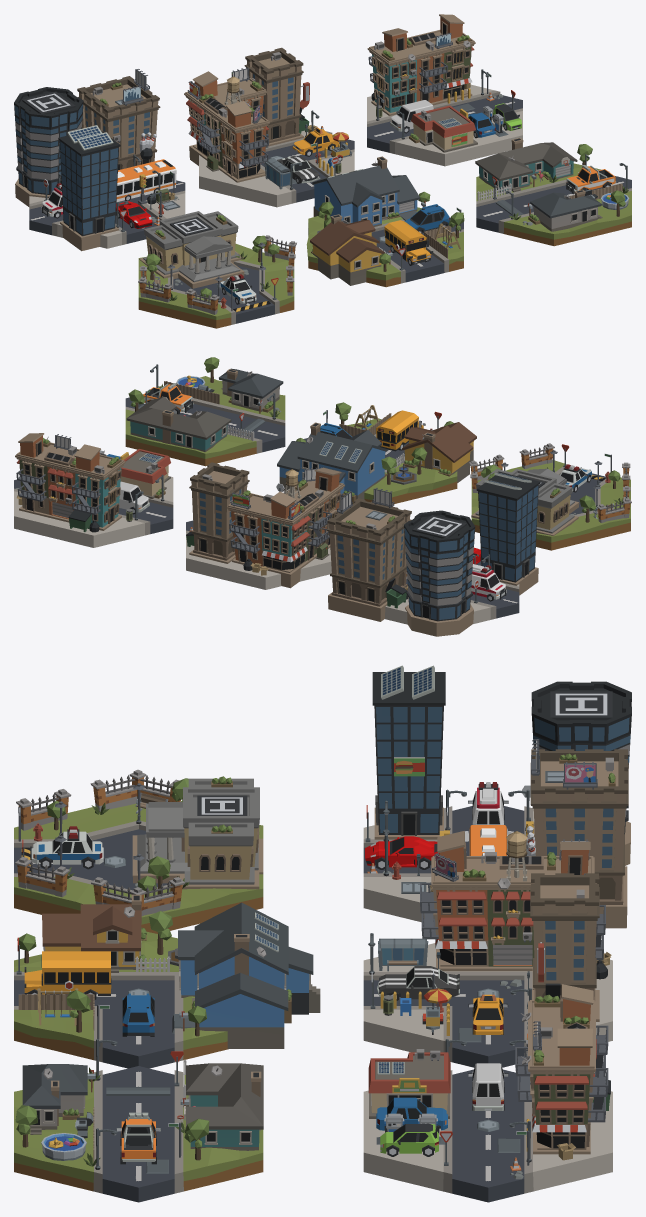
File: POLYGON_Mini_-_City_Pack_a03cc9e1.glb
3 renders of one model, top to bottom at view 1: azimuth 30°, elevation 25°; view 2: azimuth 150°, elevation 25°; view 3: azimuth 270°, elevation 25°, orthographic. The views are drawn at different scales.
Parts seen in each view (by area): view 1: SketchfabExportFinalFinalFinalv3_PolygonMiniCity_04_0 (×2), SketchfabExportFinalFinalFinalv3_BlueGlass_0, SketchfabExportFinalFinalFinalv3_ShinyCars_0, SketchfabExportFinalFinalFinalv3_Glass_0, SketchfabExportFinalFinalFinalv3_PolygonMiniCity_01_Blue3_0; view 2: SketchfabExportFinalFinalFinalv3_PolygonMiniCity_04_0 (×2), SketchfabExportFinalFinalFinalv3_BlueGlass_0, SketchfabExportFinalFinalFinalv3_Glass_0, SketchfabExportFinalFinalFinalv3_ShinyCars_0; view 3: SketchfabExportFinalFinalFinalv3_PolygonMiniCity_04_0 (×2), SketchfabExportFinalFinalFinalv3_ShinyCars_0, SketchfabExportFinalFinalFinalv3_BlueGlass_0, SketchfabExportFinalFinalFinalv3_Glass_0.
Boxes of the visible parts, <box> form: SketchfabExportFinalFinalFinalv3_PolygonMiniCity_04_0 (×2): <box>14,14,631,328</box>; SketchfabExportFinalFinalFinalv3_BlueGlass_0: <box>14,74,307,234</box>; SketchfabExportFinalFinalFinalv3_ShinyCars_0: <box>45,100,615,300</box>; SketchfabExportFinalFinalFinalv3_Glass_0: <box>48,24,598,292</box>; SketchfabExportFinalFinalFinalv3_PolygonMiniCity_01_Blue3_0: <box>116,161,176,201</box>; SketchfabExportFinalFinalFinalv3_PolygonMiniCity_04_0 (×2): <box>14,357,631,636</box>; SketchfabExportFinalFinalFinalv3_BlueGlass_0: <box>199,486,538,619</box>; SketchfabExportFinalFinalFinalv3_Glass_0: <box>25,387,584,588</box>; SketchfabExportFinalFinalFinalv3_ShinyCars_0: <box>107,384,591,597</box>; SketchfabExportFinalFinalFinalv3_PolygonMiniCity_04_0 (×2): <box>14,665,631,1202</box>; SketchfabExportFinalFinalFinalv3_ShinyCars_0: <box>24,787,506,1158</box>; SketchfabExportFinalFinalFinalv3_BlueGlass_0: <box>376,707,630,980</box>; SketchfabExportFinalFinalFinalv3_Glass_0: <box>44,793,585,1148</box>.
Size of the model in its own units: 18.32 by 3.72 by 12.39.
6 materials, 4 textured.
